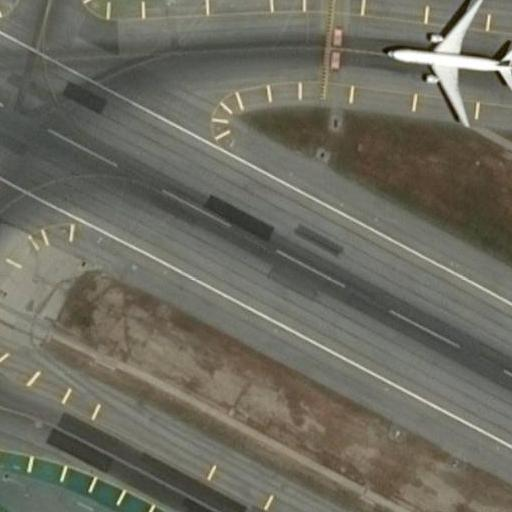Aircraft: (381, 0, 512, 120)
